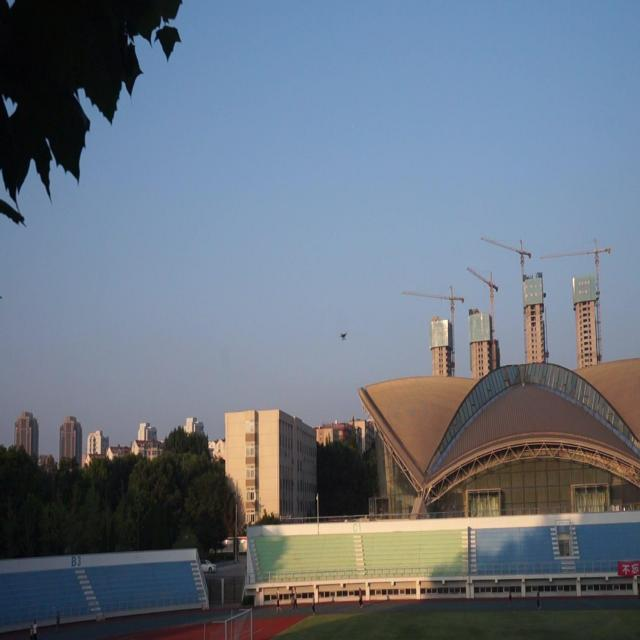UAV: (339, 331, 348, 341)
